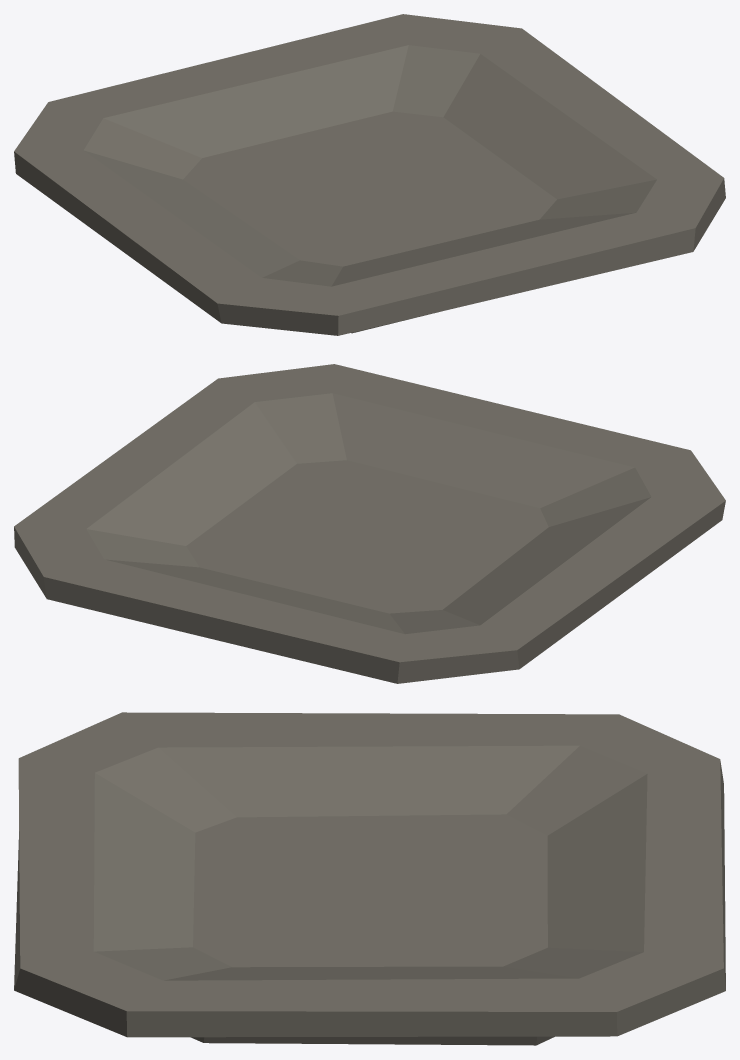
Rendered from entity105268.glb.
3 views of the same model, one above another, from view 1: azimuth 30°, elevation 25°; view 2: azimuth 150°, elevation 25°; view 3: azimuth 270°, elevation 25° (orthographic). The views are drawn at different scales.
Parts seen in each view (by area): view 1: node_SM_Prop_Vendor_Plate_02; view 2: node_SM_Prop_Vendor_Plate_02; view 3: node_SM_Prop_Vendor_Plate_02.
Part boxes in pixels (left/top/right/bottom): node_SM_Prop_Vendor_Plate_02: left=14, top=14, right=725, bottom=335; node_SM_Prop_Vendor_Plate_02: left=14, top=364, right=725, bottom=683; node_SM_Prop_Vendor_Plate_02: left=14, top=712, right=725, bottom=1045.
Size of the model in its own units: 0.4761 by 0.0615 by 0.4778.
Materials: 1 (1 with a texture image).
